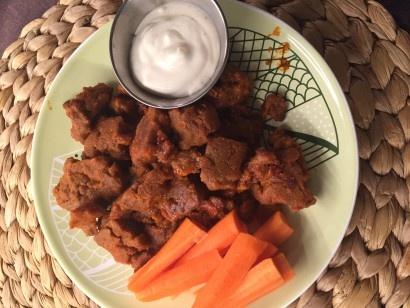background: (33, 31, 202, 148), (59, 0, 141, 47)
